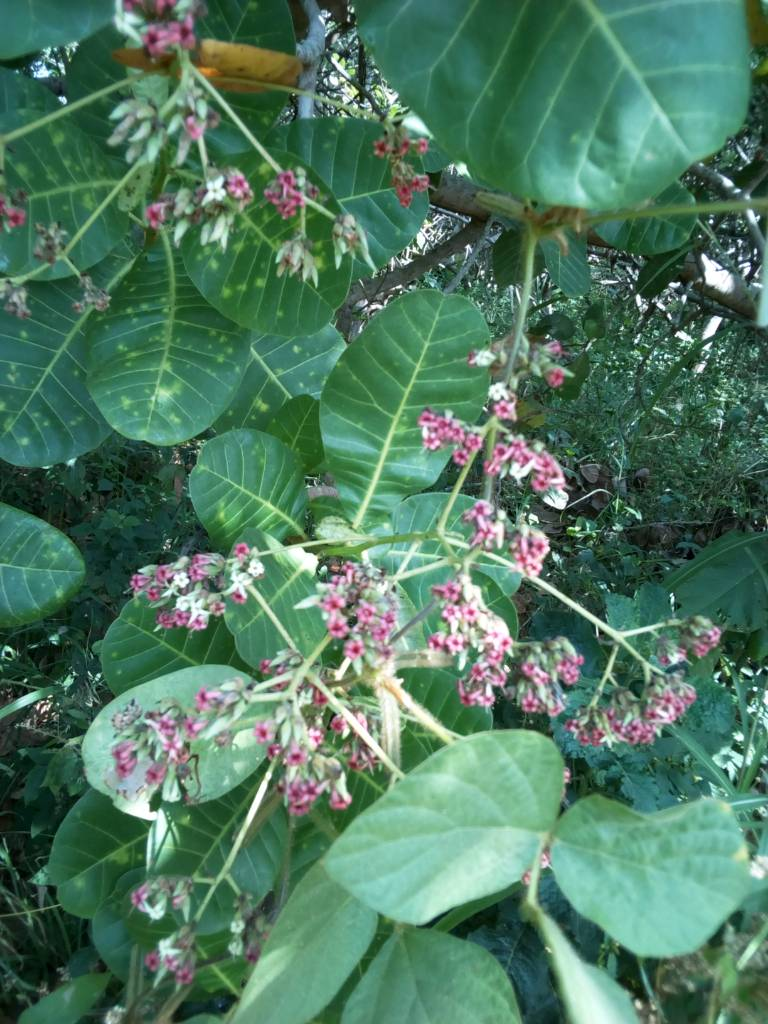Carence minérale: (71, 221, 266, 450), (172, 142, 385, 336), (1, 283, 135, 497), (1, 107, 150, 285)
